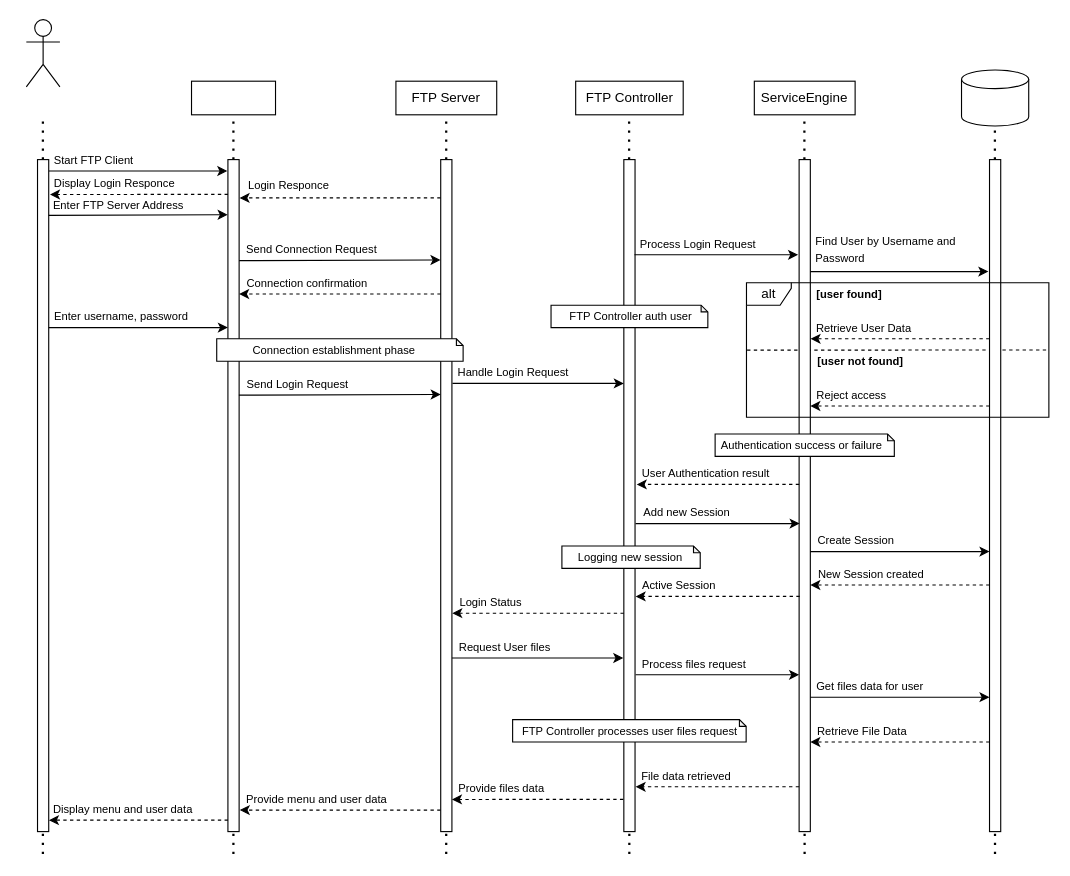
The diagram is 1070 pixels wide and 876 high, and some of its shapes have lost their labels. Here are the shapes that lost their labels. From the top down, the centre of each, then its label:
At pixel 42 52: "User".
At pixel 233 97: "FTP Client".
At pixel 994 97: "Database".
